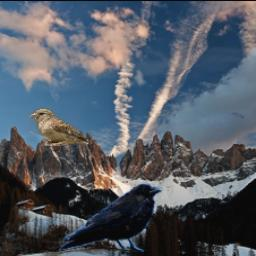Crow: (59, 182, 163, 252)
Sparrow: (29, 109, 88, 147)
